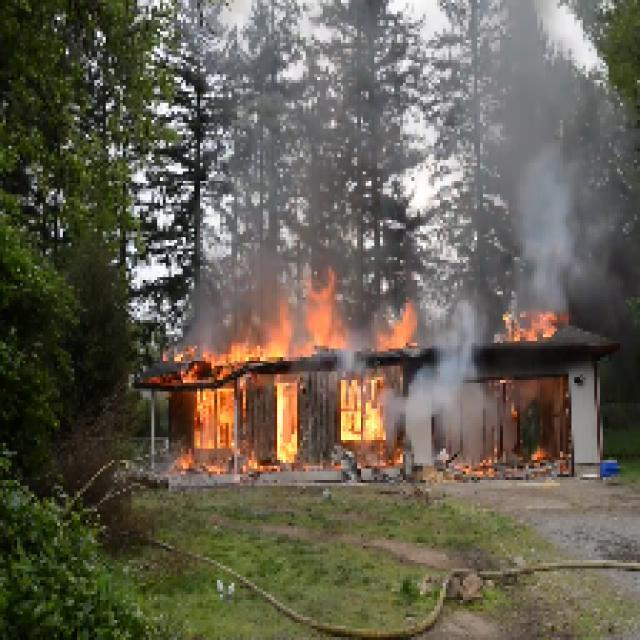Fire: (184, 308, 417, 444)
Smoke: (500, 40, 580, 288), (433, 312, 481, 423)
